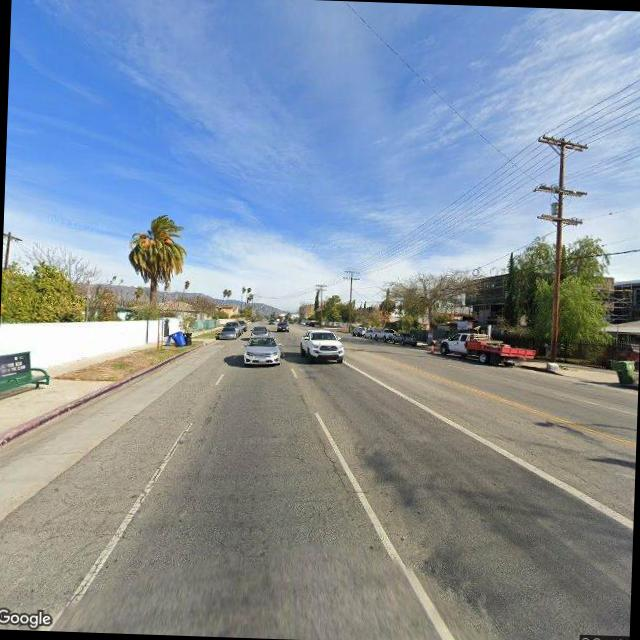crack: (134, 416, 190, 512), (315, 439, 349, 495)
